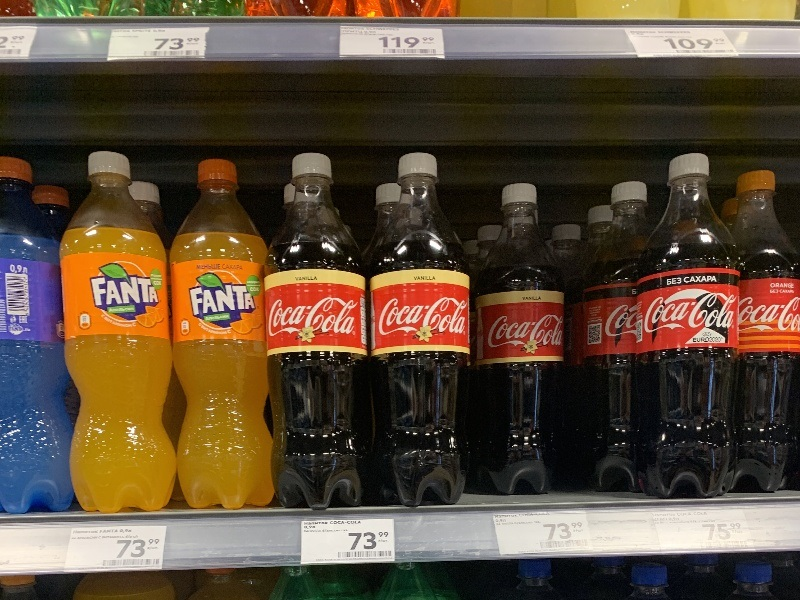lemonade: (36, 148, 195, 522), (159, 157, 290, 519), (256, 147, 378, 516), (365, 150, 471, 513), (461, 172, 571, 505), (641, 150, 743, 506)
